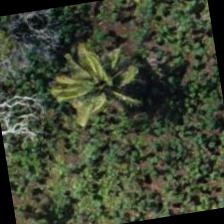Kelapa_Sawit: (66, 40, 168, 142)
